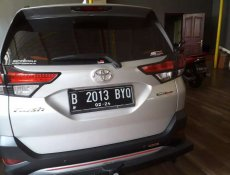plate: (70, 88, 134, 107)
